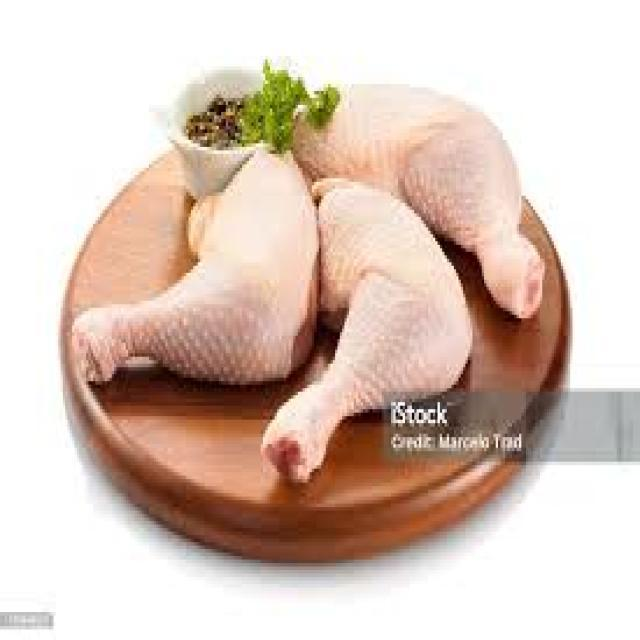quater: (62, 150, 329, 392), (294, 72, 544, 324), (279, 168, 476, 479)
